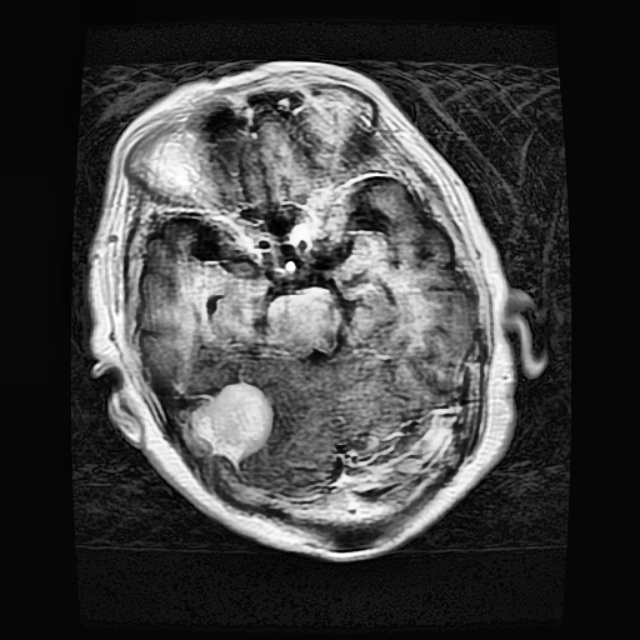Pituitary: (192, 383, 270, 460)
